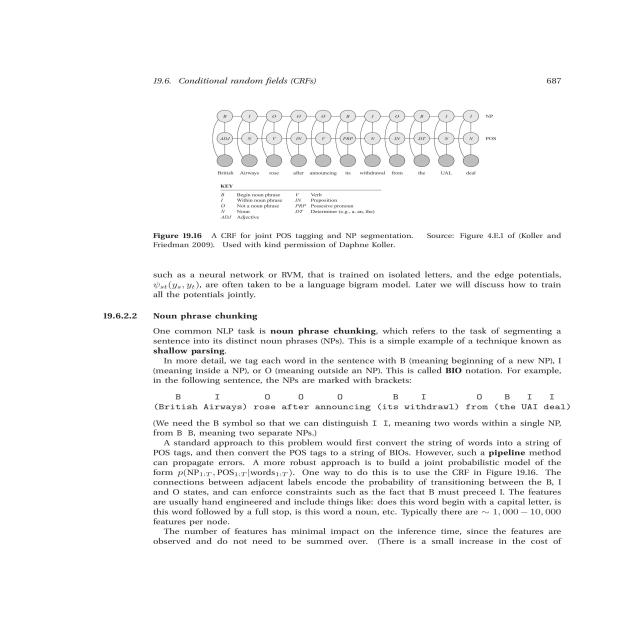diagram: (93, 90, 598, 262)
